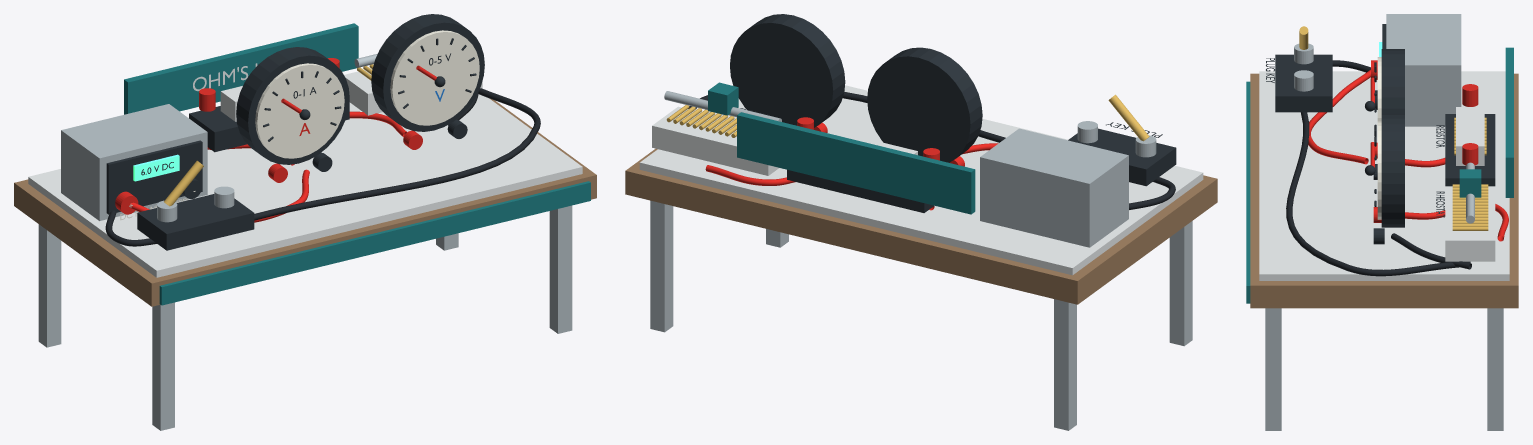
Rendered from ohmslawmodels.glb.
The picture shows the model from 3 angles, left to right: view 1: azimuth 30°, elevation 25°; view 2: azimuth 150°, elevation 25°; view 3: azimuth 270°, elevation 25°; orthographic projection. The views are drawn at different scales.
Parts seen in each view (by area): view 1: White Laboratory Work Surface, Experiment Tabletop, Front Teal Table Trim, DC Power Supply Body, Practical Title Plate, Ammeter Dial, Voltmeter Dial, Plug Key Base, Ammeter Housing, Voltmeter Housing, Power Supply Front Panel, Steel Table Leg.002 (+6 smaller); view 2: Experiment Tabletop, White Laboratory Work Surface, DC Power Supply Body, Practical Title Plate, Ammeter Housing, Voltmeter Housing, Rheostat Ceramic Base, Steel Table Leg.003, Steel Table Leg.001, Steel Table Leg, Plug Key Base, Resistor Base (+3 smaller); view 3: White Laboratory Work Surface, Experiment Tabletop, DC Power Supply Body, Plug Key Base, Voltmeter Housing, Rheostat Ceramic Base, Wire - Rheostat to Key, Steel Table Leg.002, Steel Table Leg.003, Resistor Base, Ammeter Housing, Resistance Wire Ceramic Body (+16 smaller).
Boxes of the visible parts, x1,y1,x2,y2 form: White Laboratory Work Surface: (28,94,582,277); Experiment Tabletop: (14,98,596,306); Front Teal Table Trim: (159,181,590,305); DC Power Supply Body: (61,104,207,220); Practical Title Plate: (124,23,358,114); Ammeter Dial: (255,63,344,158); Voltmeter Dial: (390,30,479,125); Plug Key Base: (137,194,254,250); Ammeter Housing: (236,47,349,164); Voltmeter Housing: (371,14,484,131); Power Supply Front Panel: (106,140,202,214); Steel Table Leg.002: (549,205,572,333); Experiment Tabletop: (625,111,1217,304); White Laboratory Work Surface: (639,85,1203,275); DC Power Supply Body: (980,128,1128,247); Practical Title Plate: (737,112,975,214); Ammeter Housing: (867,47,982,162); Voltmeter Housing: (730,14,845,127); Rheostat Ceramic Base: (652,106,778,175); Steel Table Leg.003: (650,200,673,332); Steel Table Leg.001: (1054,299,1076,430); Steel Table Leg: (1169,221,1192,346); Plug Key Base: (1068,128,1176,186); Resistor Base: (787,169,933,212); White Laboratory Work Surface: (1259,71,1509,280); Experiment Tabletop: (1250,73,1518,308); DC Power Supply Body: (1386,14,1461,126); Plug Key Base: (1275,54,1332,112); Voltmeter Housing: (1381,113,1404,227); Rheostat Ceramic Base: (1445,186,1495,261); Wire - Rheostat to Key: (1286,112,1470,276); Steel Table Leg.002: (1265,308,1281,430); Steel Table Leg.003: (1487,308,1503,430); Resistor Base: (1445,114,1495,186); Ammeter Housing: (1381,49,1404,113); Resistance Wire Ceramic Body: (1456,107,1484,165).
Bounding box in the file's own units: 2.82 × 1.69 × 1.52.
